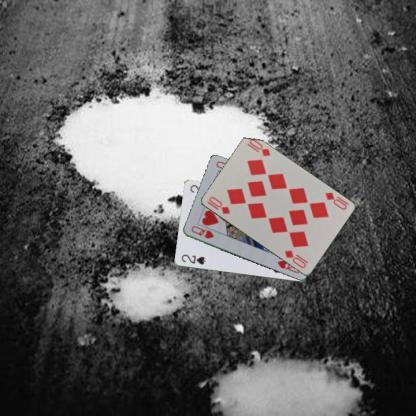10d: (323, 190, 350, 212), (206, 193, 231, 216)
2s: (178, 252, 207, 266)
Qh: (188, 223, 215, 240)
